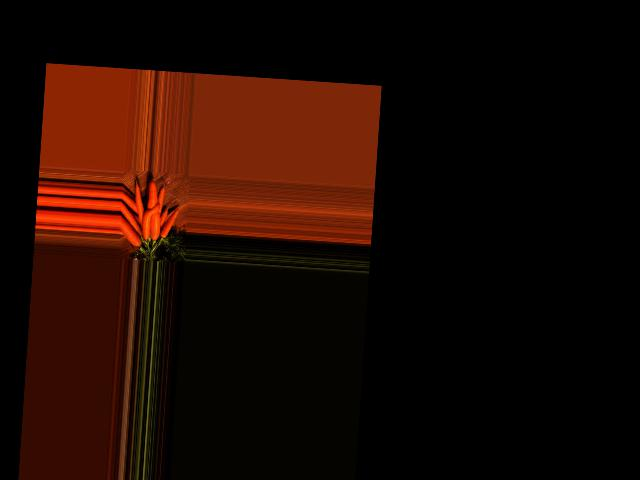carrot: (118, 217, 143, 249)
